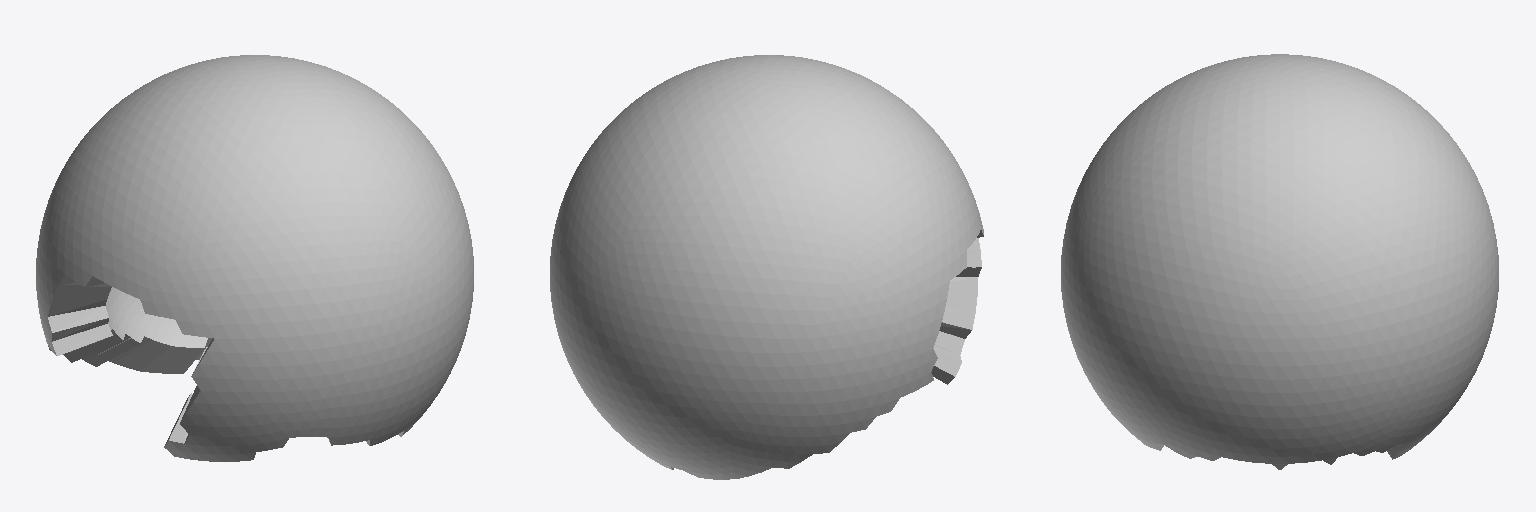
The model's file is clouds_3.obj.
The picture shows the model from 3 angles: view 1: azimuth 30°, elevation 25°; view 2: azimuth 150°, elevation 25°; view 3: azimuth 270°, elevation 25°; orthographic projection.
Visible parts, largest first — view 1: Icosphere.028; view 2: Icosphere.028; view 3: Icosphere.028.
Part boxes in pixels (x1,y1,x2,y2): Icosphere.028: (36,55,473,461); Icosphere.028: (550,55,983,479); Icosphere.028: (1061,54,1498,469).
Size of the model in its own units: 21.55 by 19.71 by 21.66.